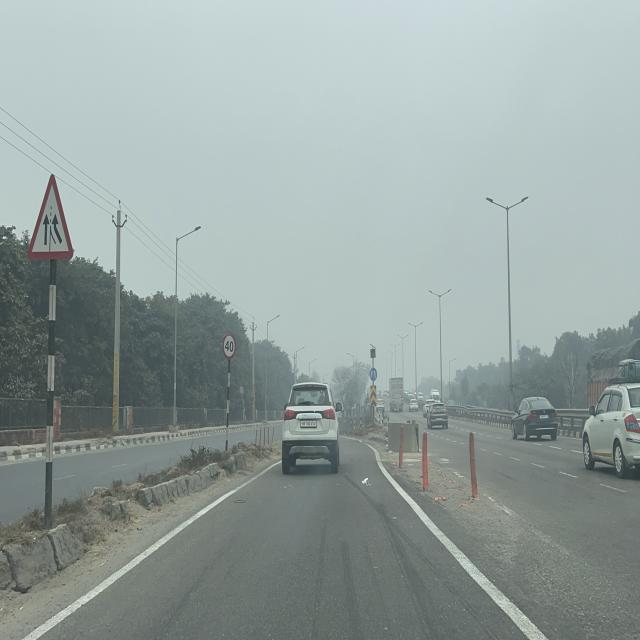KEEP_EITHER_SIDE: (370, 367, 378, 382)
SPEED_LIMIT_40: (222, 332, 236, 361)
WARNING: (26, 173, 74, 262)
